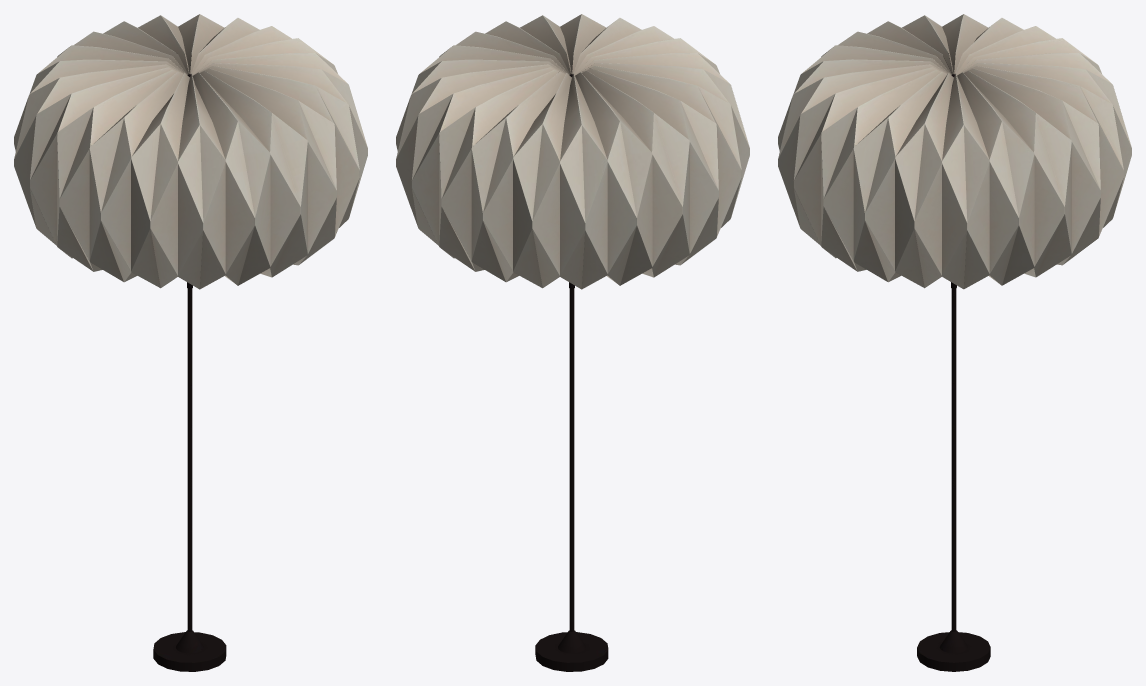
The model's file is Ceiling_lamp_001.glb.
3 renders of one model, left to right at view 1: azimuth 30°, elevation 25°; view 2: azimuth 150°, elevation 25°; view 3: azimuth 270°, elevation 25°, orthographic.
Visible parts, largest first — view 1: Ceiling_lamp_001; view 2: Ceiling_lamp_001; view 3: Ceiling_lamp_001.
Part boxes in pixels (x1,y1,x2,y2): Ceiling_lamp_001: (14, 14, 367, 671); Ceiling_lamp_001: (396, 14, 749, 671); Ceiling_lamp_001: (778, 14, 1131, 671).
Bounding box in the file's own units: 0.5815 × 1.07 × 0.5808.
Materials: 1 (1 with a texture image).
